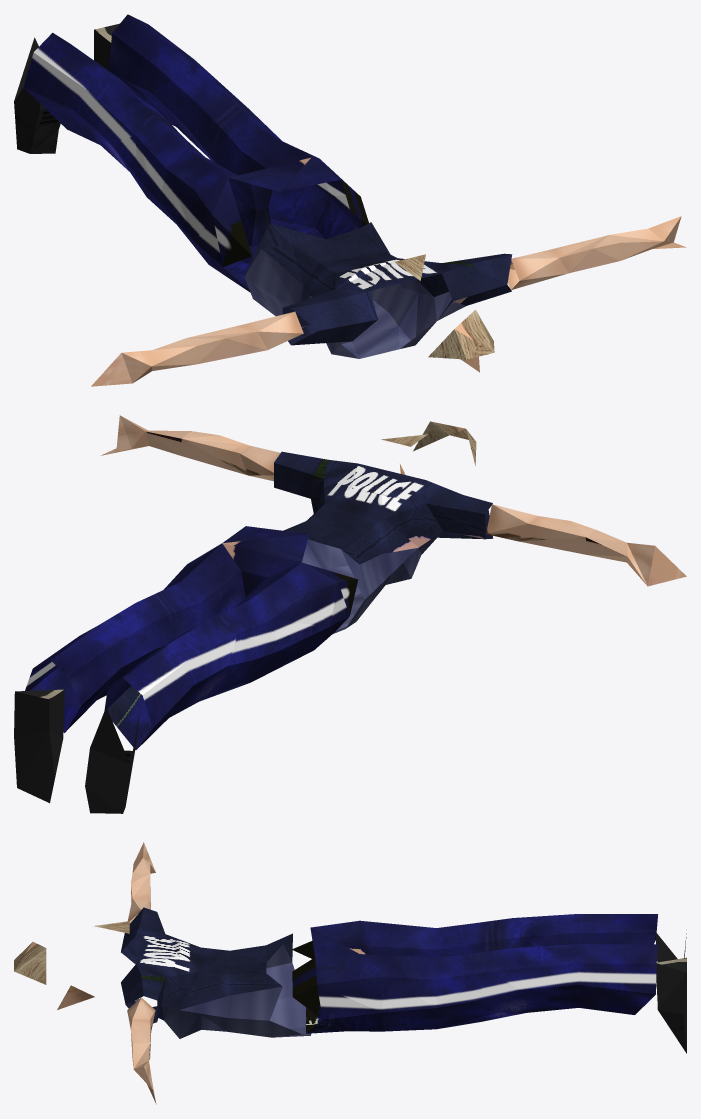
File: tomdrinwoman3policelow_wtf.obj
3 renders of one model, top to bottom at view 1: azimuth 30°, elevation 25°; view 2: azimuth 150°, elevation 25°; view 3: azimuth 270°, elevation 25°, orthographic. The views are drawn at different scales.
Visible parts, largest first — view 1: group2, group1, group6, group5, group3, group4; view 2: group2, group1, group3, group6, group5, group4; view 3: group2, group1, group3, group5, group4, group6, group7.
Part boxes in pixels (x1,y1,x2,y2): group2: [23, 14, 368, 292]; group1: [244, 222, 512, 358]; group6: [91, 311, 303, 386]; group5: [507, 216, 686, 289]; group3: [14, 23, 119, 153]; group4: [395, 254, 494, 359]; group2: [25, 526, 358, 749]; group1: [274, 451, 493, 633]; group3: [14, 689, 139, 813]; group6: [486, 504, 686, 586]; group5: [101, 415, 280, 481]; group4: [381, 421, 476, 465]; group2: [292, 914, 657, 1033]; group1: [121, 907, 311, 1038]; group3: [655, 933, 686, 1053]; group5: [127, 997, 156, 1104]; group4: [14, 921, 129, 984]; group6: [128, 842, 155, 923]; group7: [57, 985, 94, 1009].
Bounding box in the file's own units: 563 × 119 × 659.
